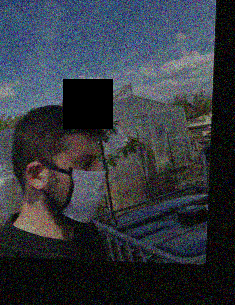with_mask: (60, 149, 106, 227)
